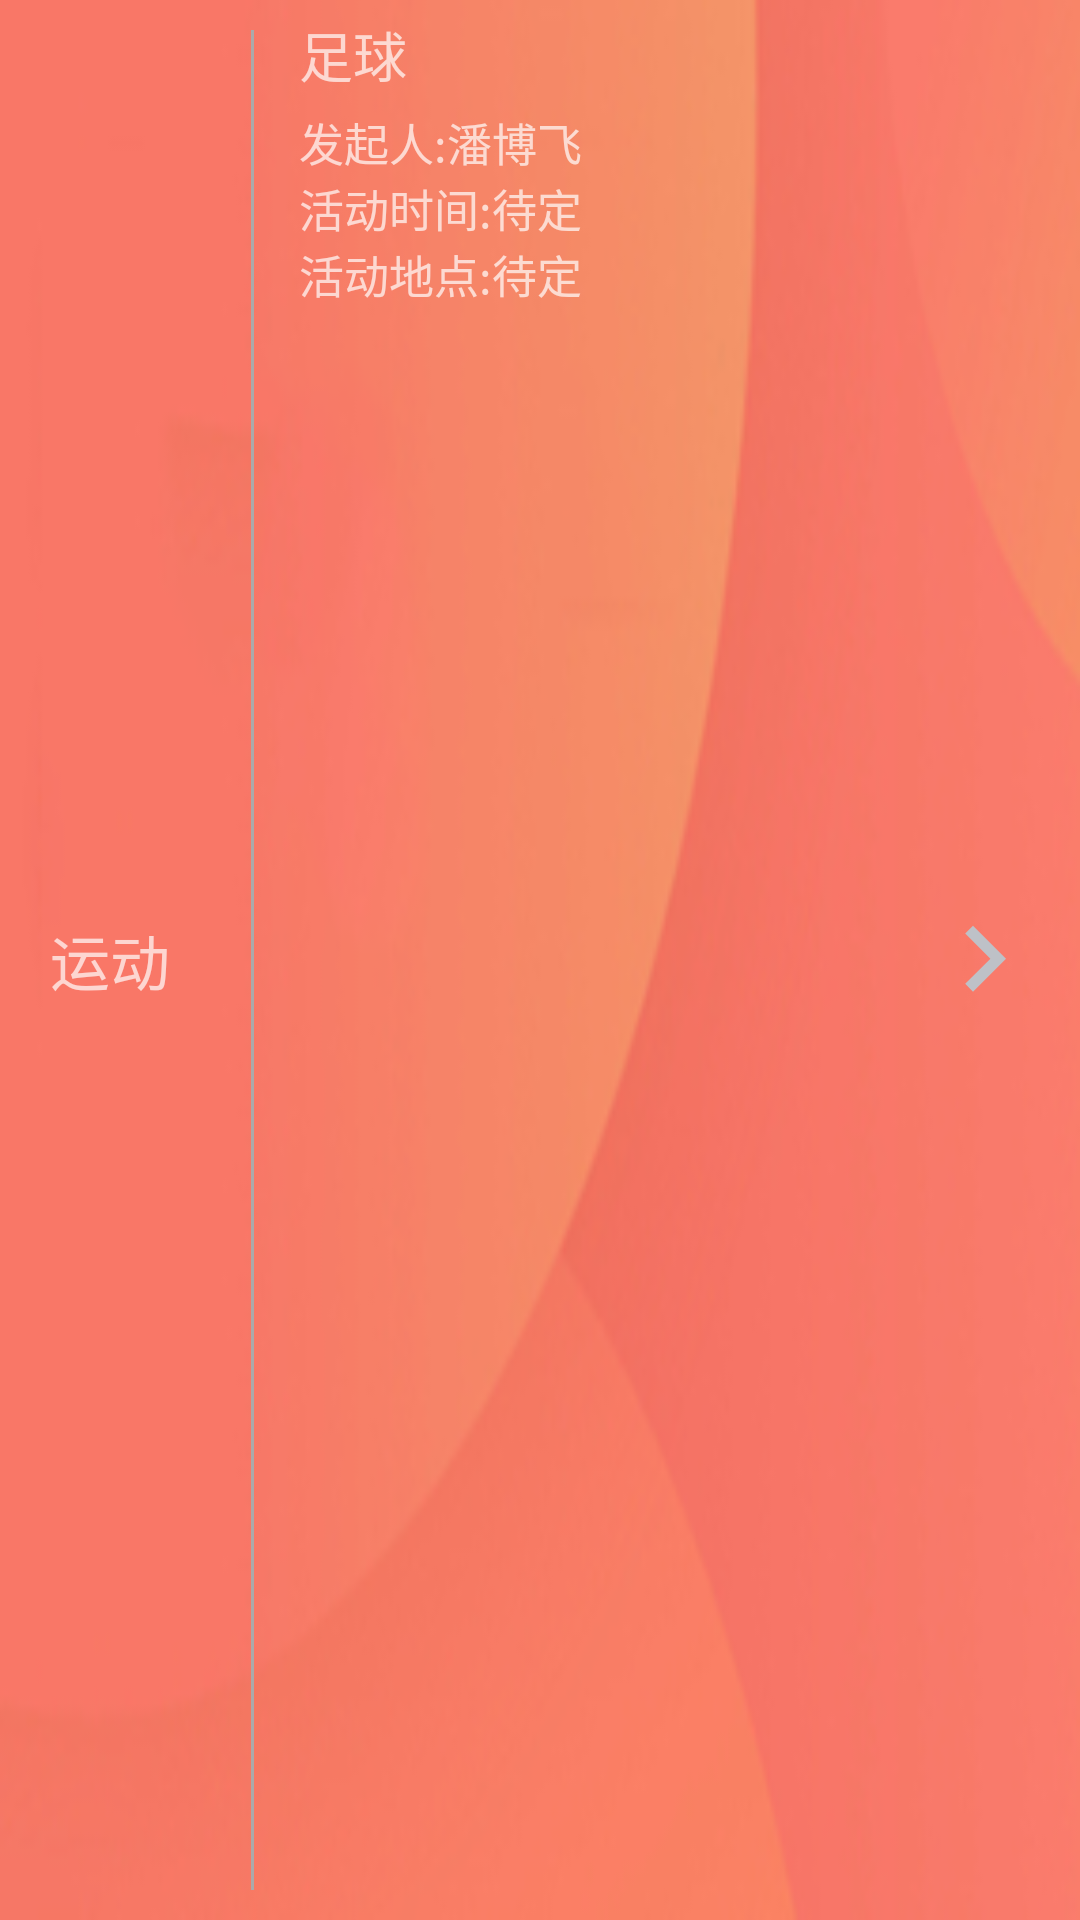

Icons on this 1080 x 1920 Android screen, each with the point to tap as (x=x, y=y):
keyboard arrow right: (x=985, y=959)
